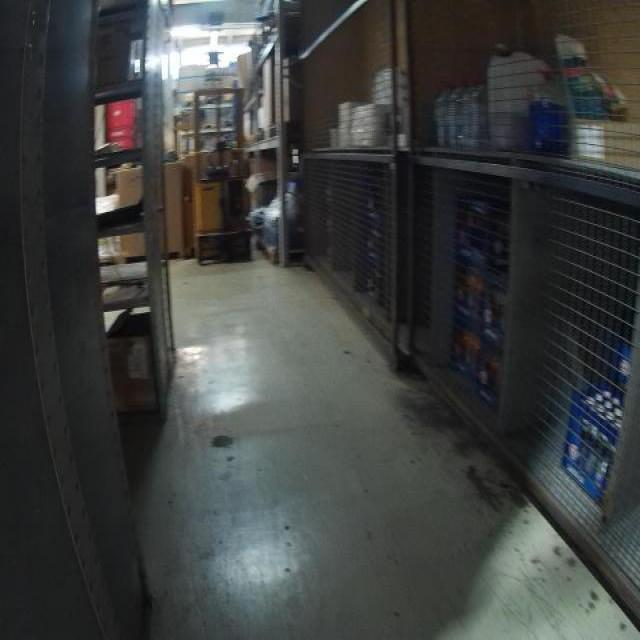pallet_truck: (192, 86, 256, 262)
